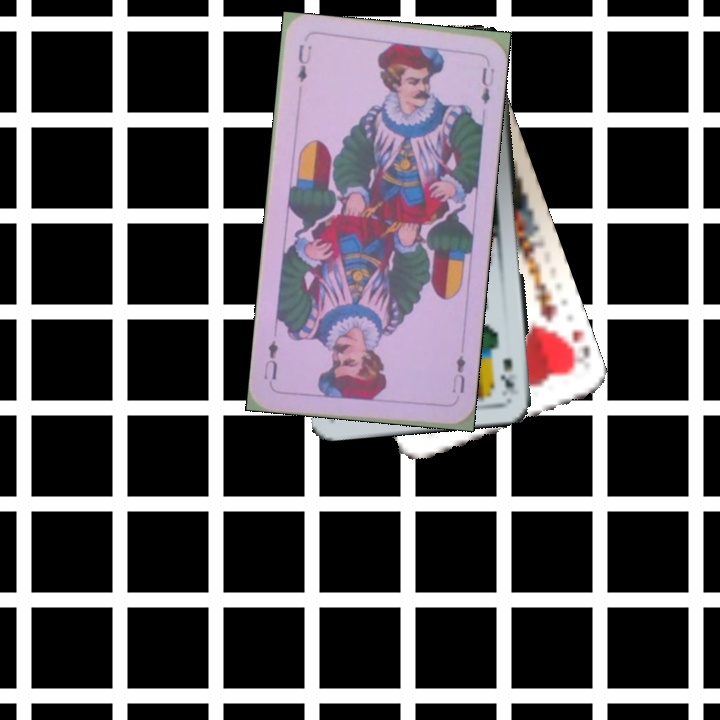EK: (499, 354, 519, 393)
EU: (447, 351, 468, 396), (293, 40, 314, 85)
HK: (556, 325, 592, 372)
